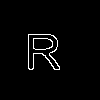R: (24, 24, 61, 70)
